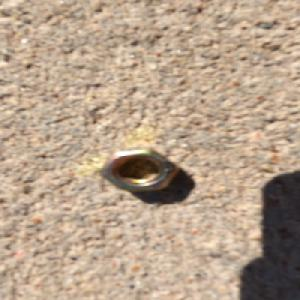Nut: (96, 146, 180, 195)
